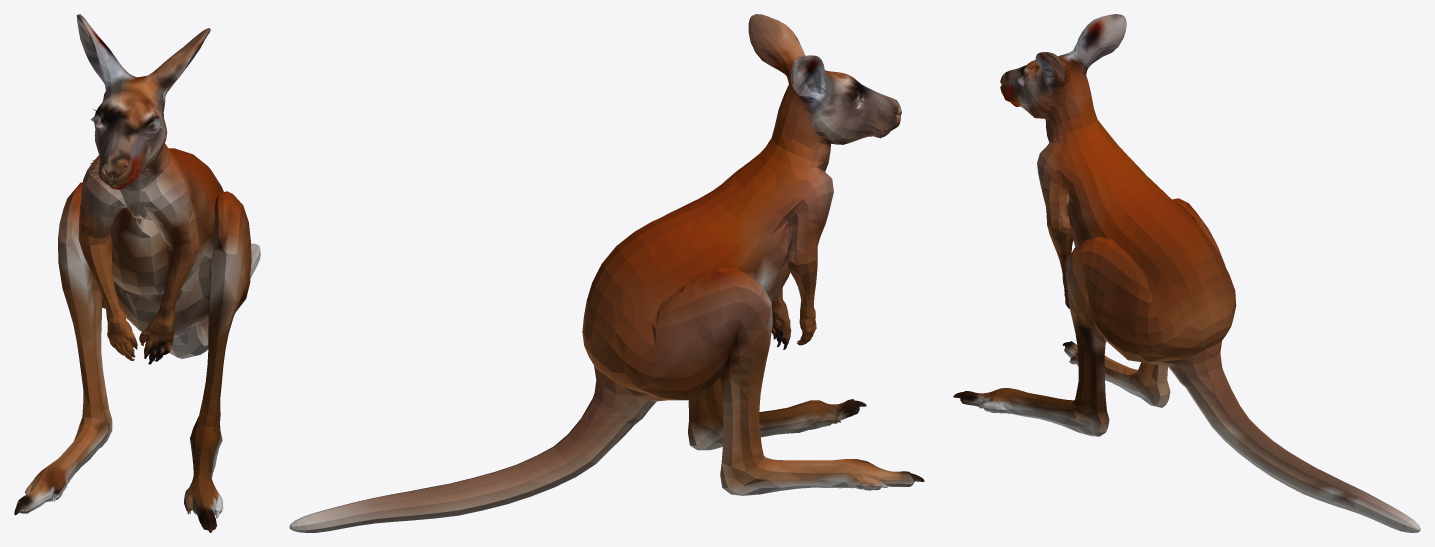
The model's file is kangaroo.mesh.glb.
3 views of the same model, side by side, from view 1: azimuth 30°, elevation 25°; view 2: azimuth 150°, elevation 25°; view 3: azimuth 270°, elevation 25° (orthographic). The views are drawn at different scales.
Visible parts, largest first — view 1: root; view 2: root; view 3: root.
Part boxes in pixels (x1=…): root: x1=14, y1=14, x2=260, y2=532; root: x1=289, y1=14, x2=924, y2=532; root: x1=953, y1=14, x2=1420, y2=532.
Bounding box in the file's own units: 0.5172 × 0.4979 × 0.555.
1 material, 1 textured.
